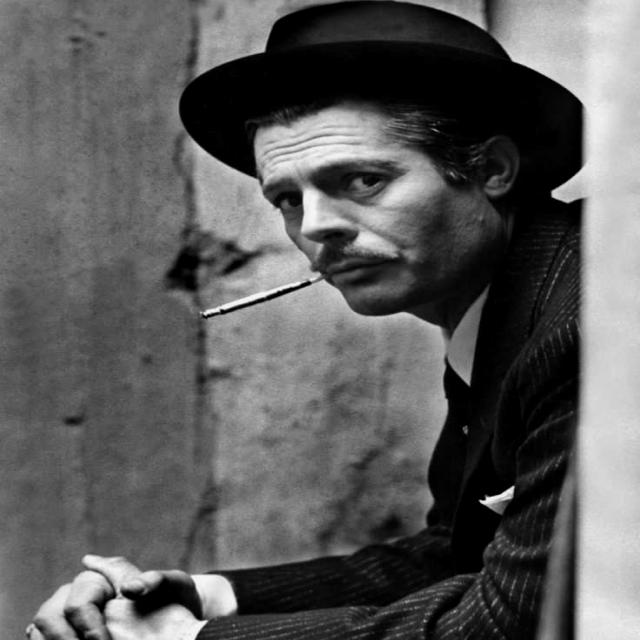Smooking: (174, 262, 346, 332)
